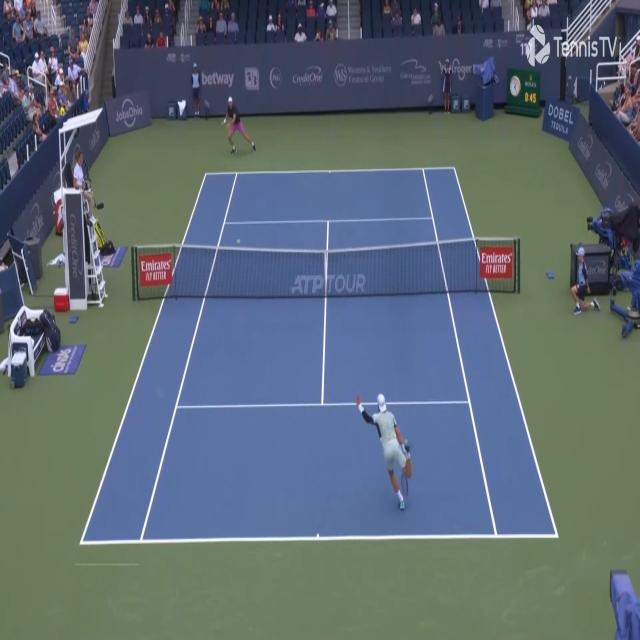tennis-player: (354, 388, 414, 512), (218, 95, 259, 158)
